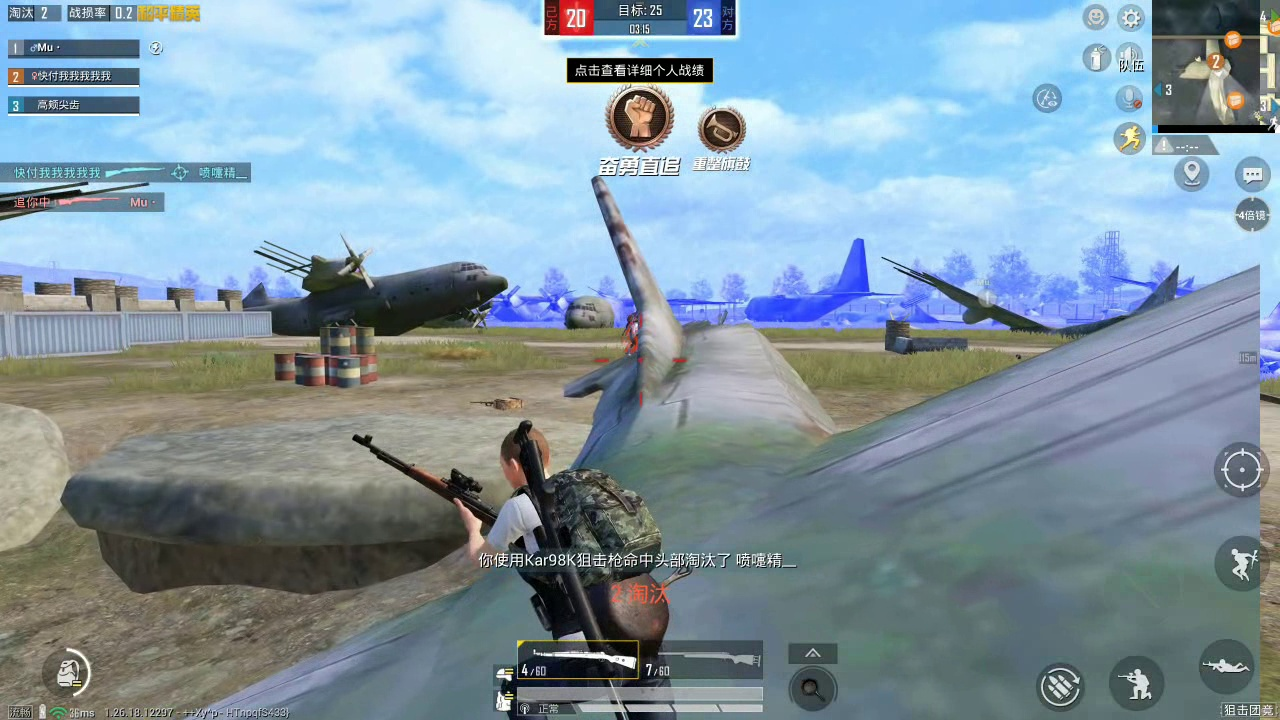enemy: (621, 306, 643, 353)
